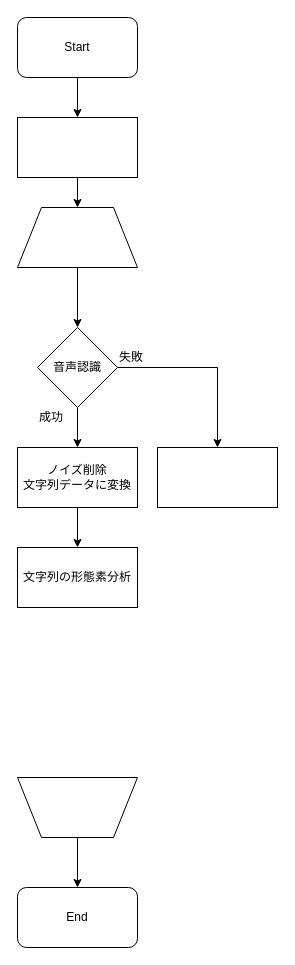
This 295x965 diagram has some shape labels left out. The shapes that lost their labels are listed below. From the top down, each one's centre as x and y in pixels, then its label:
At [77,147]: "Library import".
At [77,237]: "True".
At [217,477]: "よく聞き取れませんでしたと表示".
